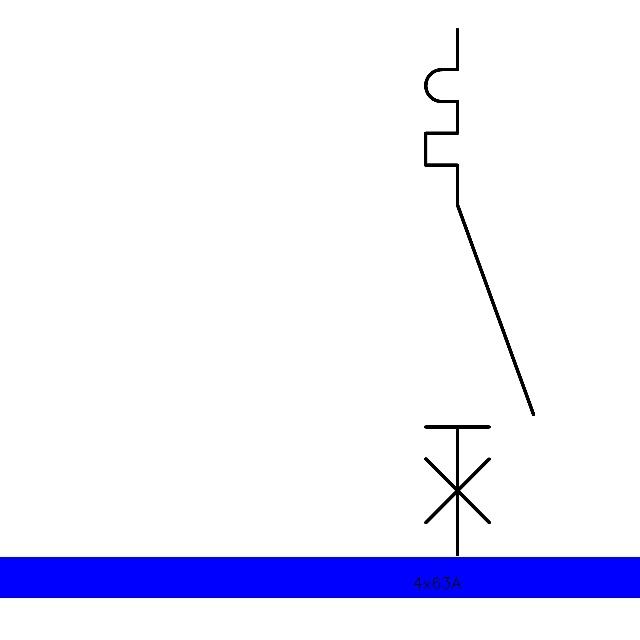interruptor_termomagnetico: (412, 16, 547, 568)
